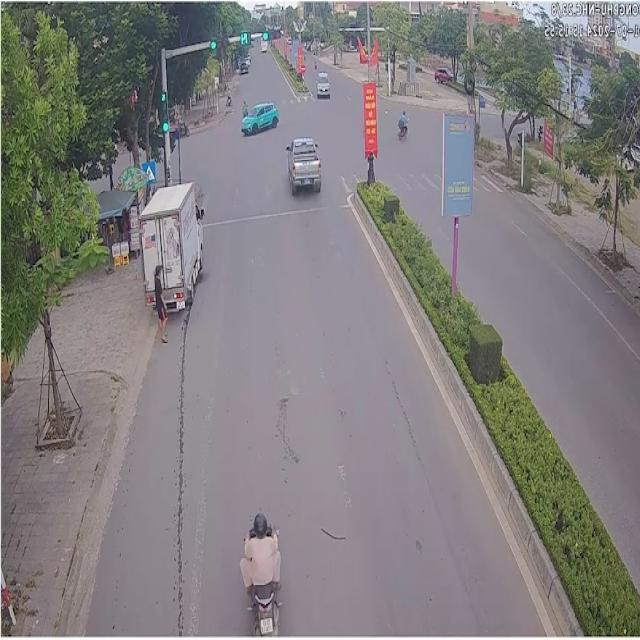car: (138, 180, 206, 310), (284, 134, 319, 192), (239, 101, 277, 131), (313, 70, 328, 96)
green_light: (158, 91, 168, 136), (208, 36, 229, 49), (260, 27, 280, 40), (237, 30, 250, 47)
motobike: (238, 512, 279, 633), (397, 108, 407, 135)
stop_line: (203, 199, 351, 225)
